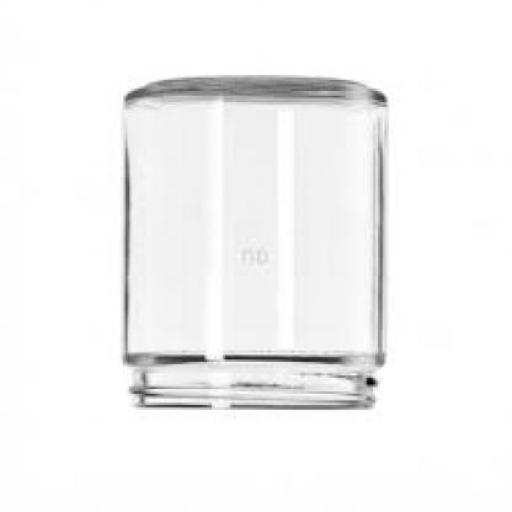glass: (123, 82, 389, 409)
